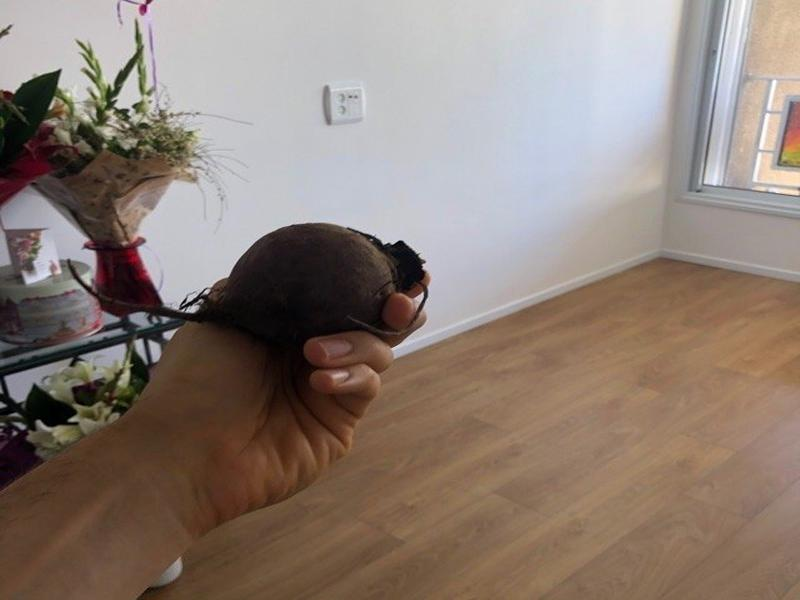Beet: (68, 223, 428, 347)
